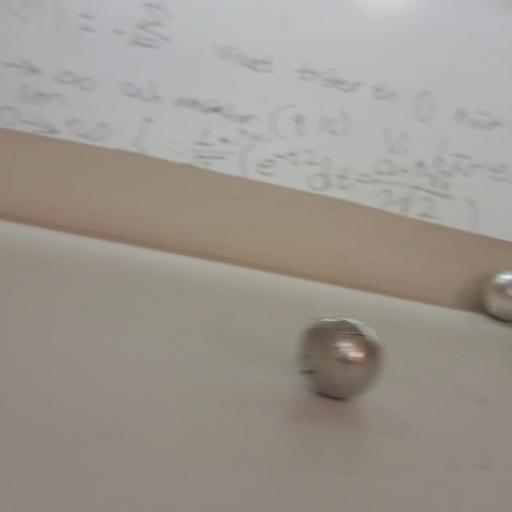alive: (296, 314, 383, 401), (481, 268, 512, 324)
